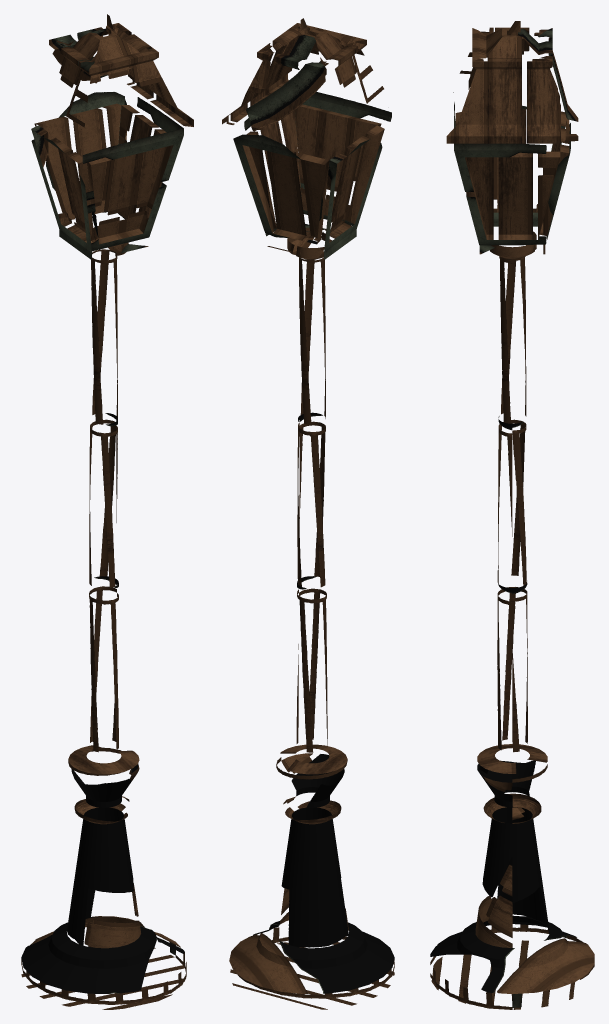
The model's file is Lampadaire.fbx.
3 renders of one model, left to right at view 1: azimuth 30°, elevation 25°; view 2: azimuth 150°, elevation 25°; view 3: azimuth 270°, elevation 25°, orthographic.
Visible parts, largest first — view 1: Lampadaire; view 2: Lampadaire; view 3: Lampadaire.
Boxes of the visible parts, x1,y1,x2,y2 form: Lampadaire: (21, 14, 193, 1009); Lampadaire: (222, 18, 394, 1009); Lampadaire: (430, 21, 594, 1009).
Bounding box in the file's own units: 64.64 × 411 × 63.98.
